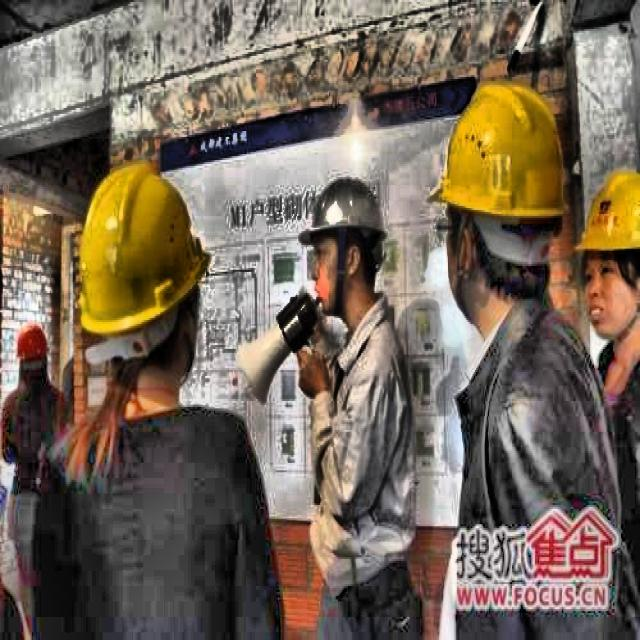helmet: (69, 150, 218, 412), (426, 66, 568, 332), (578, 152, 638, 347), (306, 170, 383, 306), (14, 318, 49, 386)
